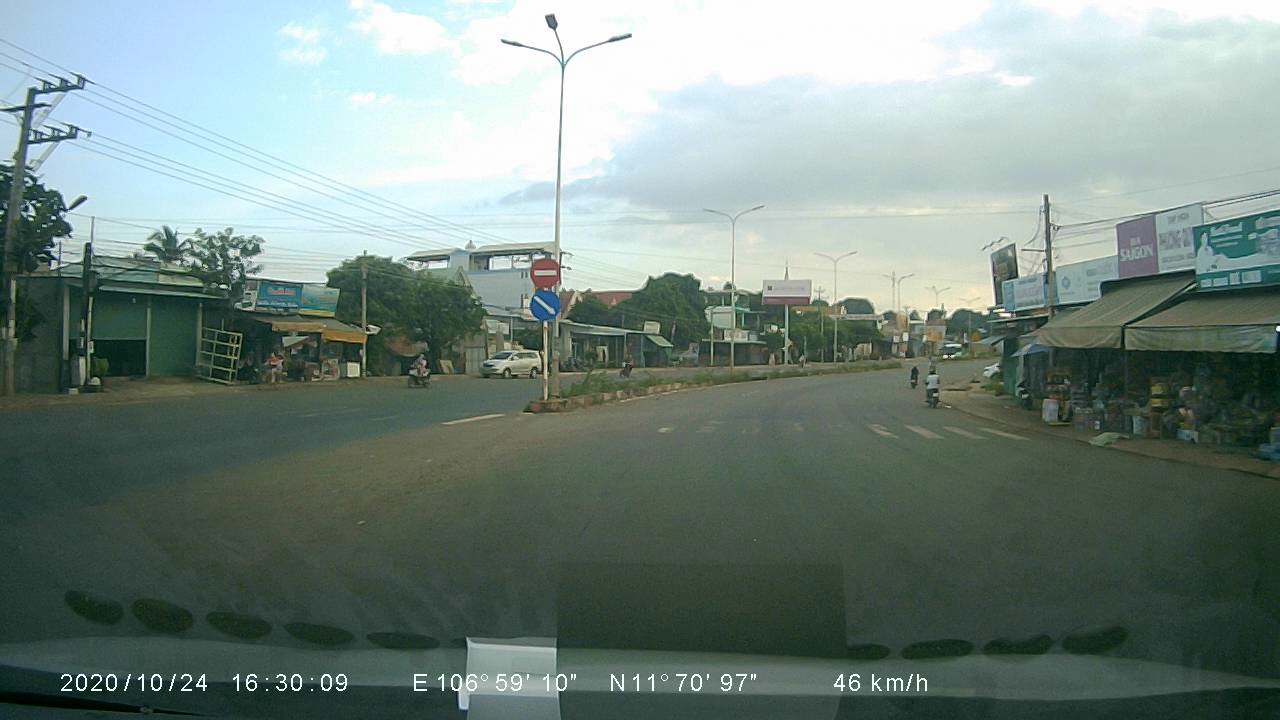Cam di nguoc chieu: (528, 256, 560, 290)
Huong di phai re phai: (526, 289, 563, 325)
